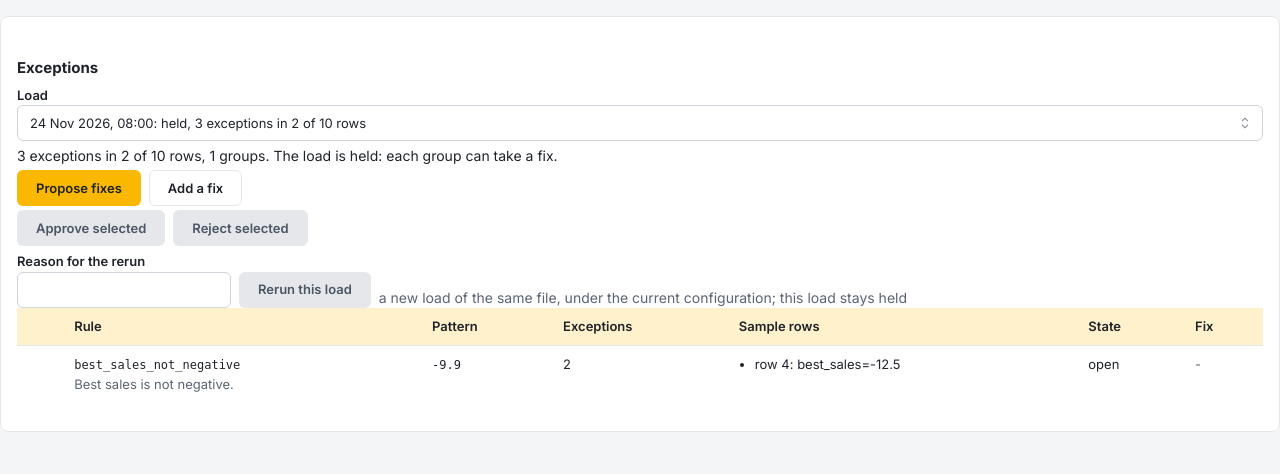
a rerun that needs the owner's go-live says so
Check: the row with test id "exception-group-g1" is shown, box [17, 346, 1263, 403]
Type "Trimmed." into the field labelled "Reason for the rerun". click: (124, 290)
box: [17, 272, 231, 308]
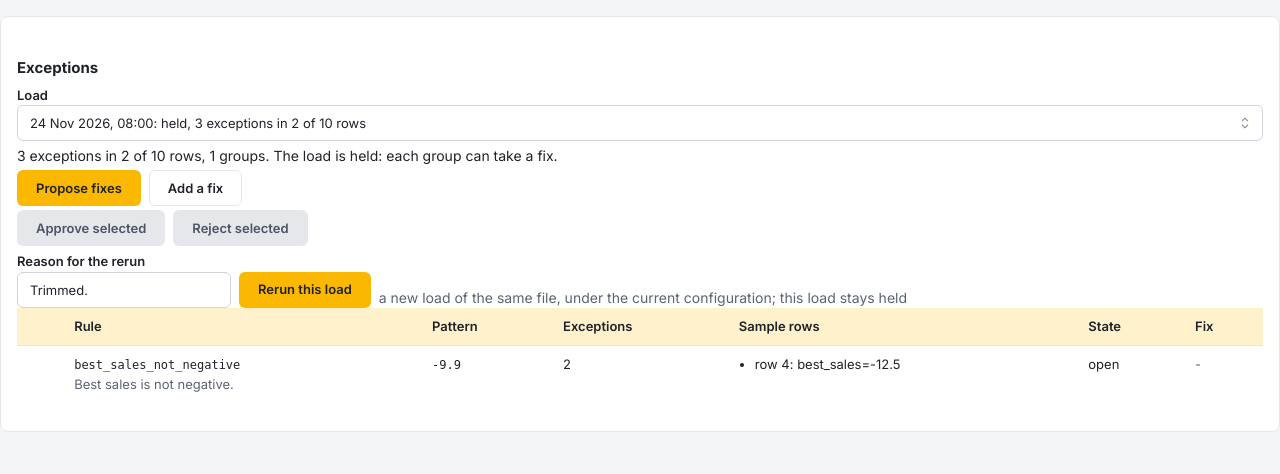
Click the button "Rerun this load". click: (305, 290)
box: [239, 272, 371, 308]
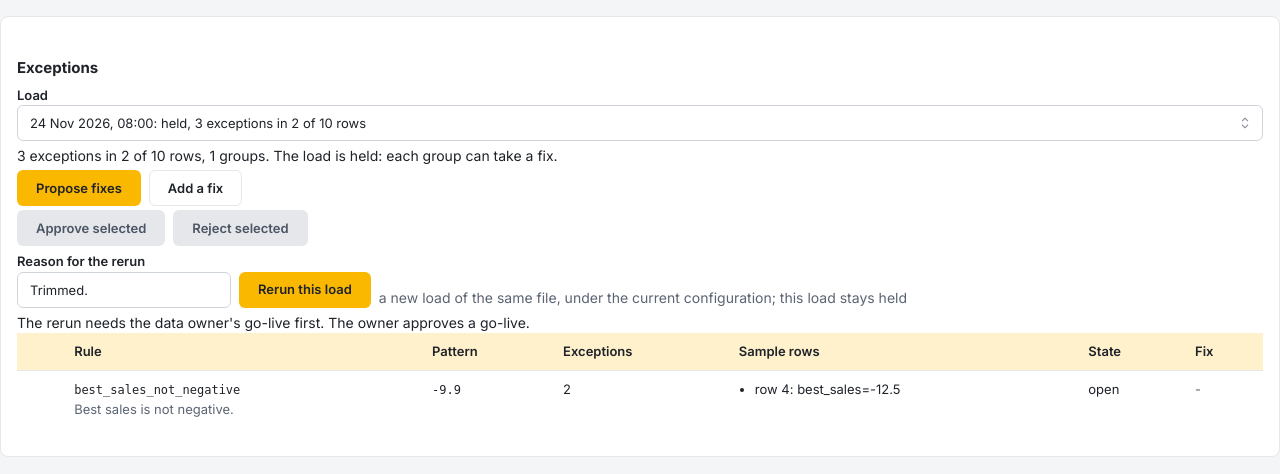
Check: the text with test id "rerun-result" shows "needs the data owner's go-live", box [17, 314, 530, 330]
